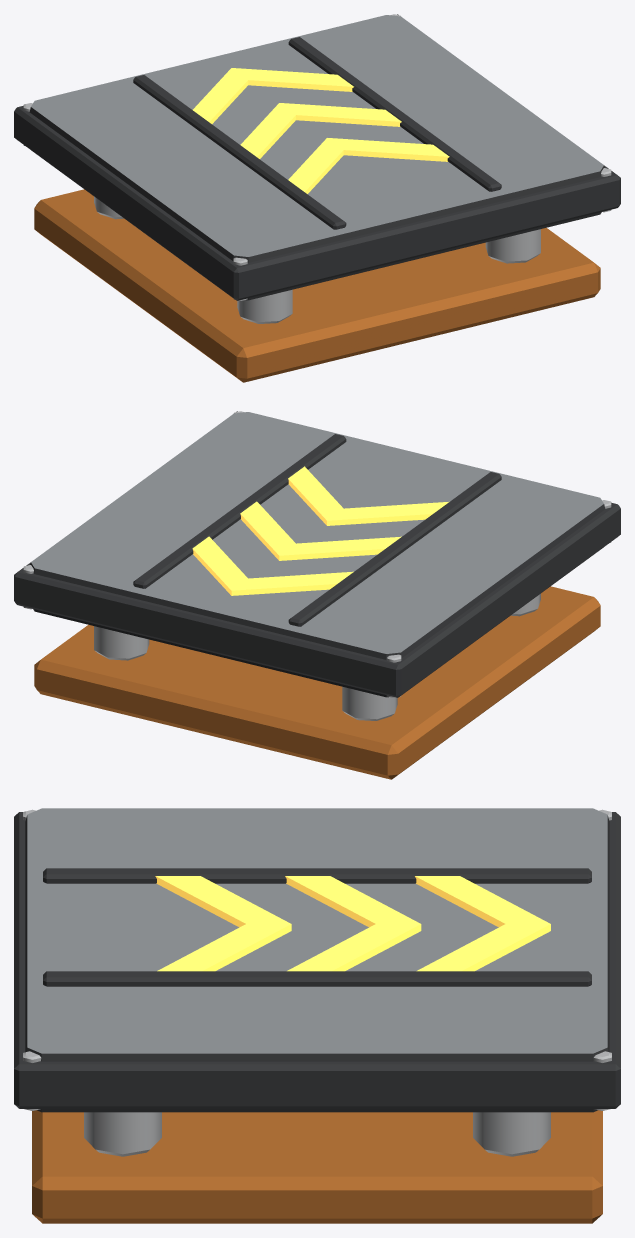
File: R4D_KnockbackTrap.fbx
The picture shows the model from 3 angles, top to bottom: view 1: azimuth 30°, elevation 25°; view 2: azimuth 150°, elevation 25°; view 3: azimuth 270°, elevation 25°; orthographic projection. The views are drawn at different scales.
Visible parts, largest first — view 1: R4D_KnockbackTrap_Plate, R4D_KnockbackTrap_Body; view 2: R4D_KnockbackTrap_Plate, R4D_KnockbackTrap_Body; view 3: R4D_KnockbackTrap_Plate, R4D_KnockbackTrap_Body.
Boxes of the visible parts, box(x1,y1,x2,y2) form: R4D_KnockbackTrap_Plate: box(14, 14, 620, 300); R4D_KnockbackTrap_Body: box(34, 189, 600, 382); R4D_KnockbackTrap_Plate: box(14, 411, 620, 697); R4D_KnockbackTrap_Body: box(34, 586, 600, 779); R4D_KnockbackTrap_Plate: box(14, 808, 620, 1112); R4D_KnockbackTrap_Body: box(32, 1110, 602, 1223).
Size of the model in its own units: 0.468 by 0.157 by 0.468.
